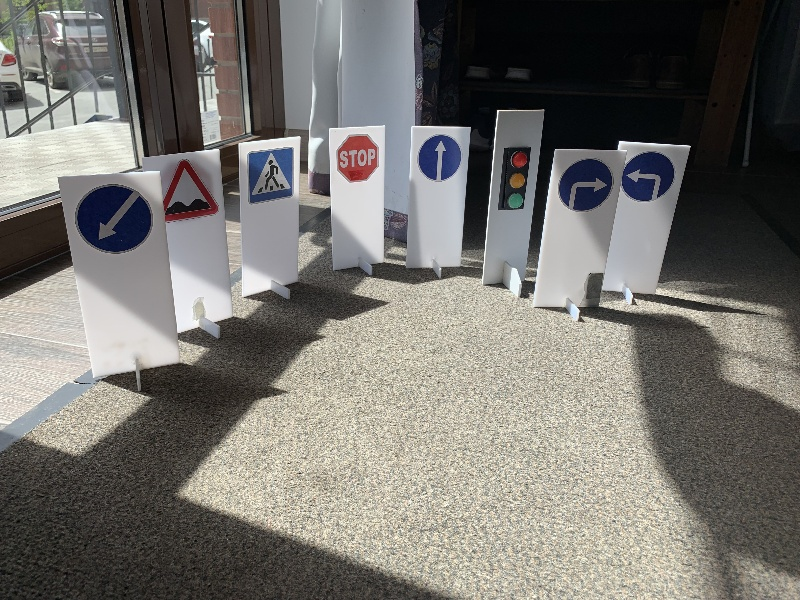Left: (620, 150, 676, 205)
Nerov: (162, 160, 220, 221)
Right: (558, 156, 615, 211)
Stop: (336, 134, 379, 184)
forw: (417, 134, 462, 185)
pesh: (243, 146, 296, 201)
prep: (73, 183, 153, 258)
